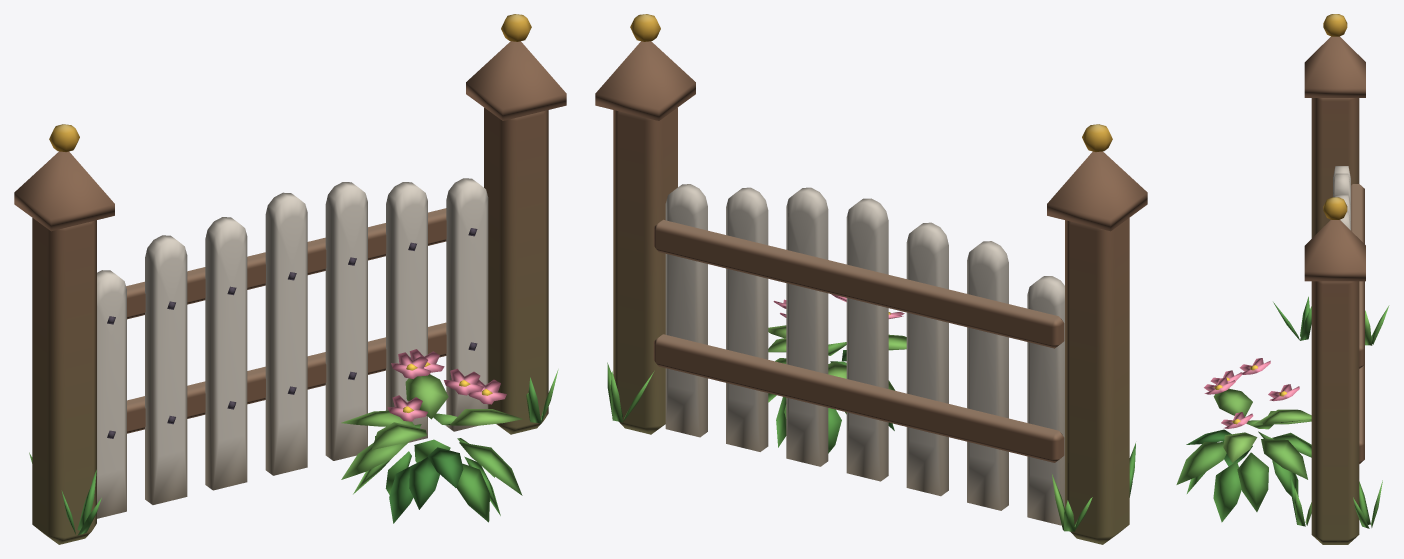
File: fence-1-v3.glb
The picture shows the model from 3 angles, left to right: view 1: azimuth 30°, elevation 25°; view 2: azimuth 150°, elevation 25°; view 3: azimuth 270°, elevation 25°; orthographic projection. The views are drawn at different scales.
Visible parts, largest first — view 1: fence; view 2: fence; view 3: fence.
Part boxes in pixels (x1,y1,x2,y2): fence: (14,14,566,544); fence: (595,14,1147,544); fence: (1176,14,1389,544).
Size of the model in its own units: 1.14 by 0.9191 by 0.4917.
